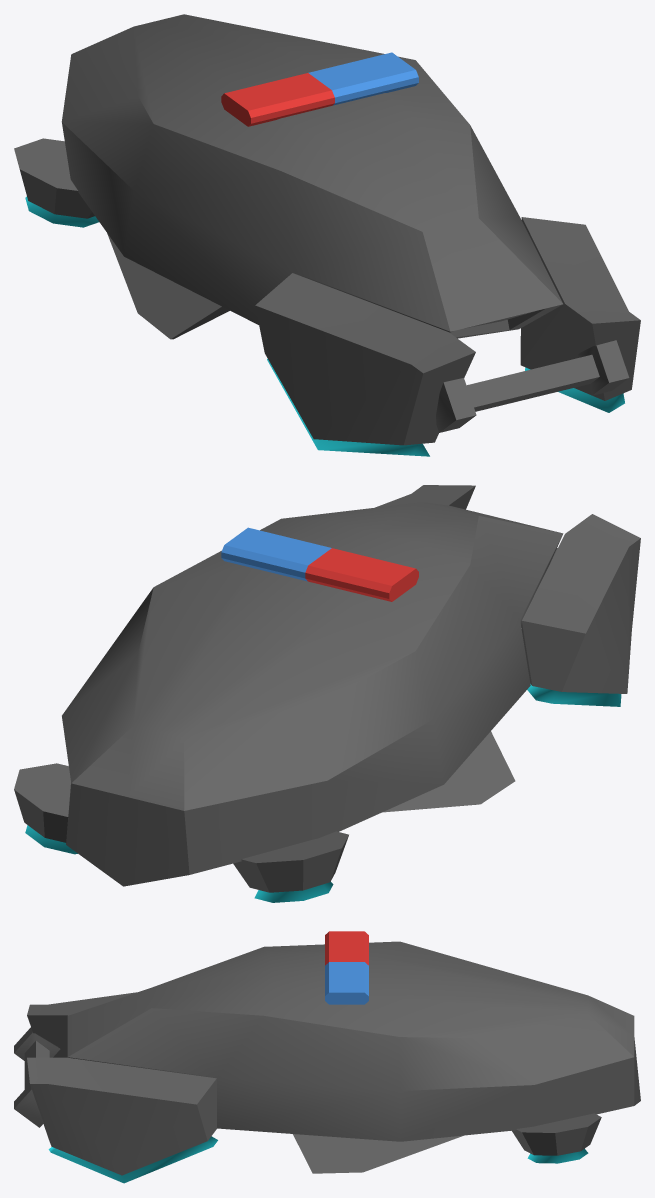
Rendered from CbpTransport B.fbx.
3 renders of one model, top to bottom at view 1: azimuth 30°, elevation 25°; view 2: azimuth 150°, elevation 25°; view 3: azimuth 270°, elevation 25°, orthographic. The views are drawn at different scales.
Visible parts, largest first — view 1: CbpTransport B; view 2: CbpTransport B; view 3: CbpTransport B.
Part boxes in pixels (x1,y1,x2,y2): CbpTransport B: [14, 14, 640, 456]; CbpTransport B: [14, 485, 640, 902]; CbpTransport B: [14, 931, 640, 1183].
Size of the model in its own units: 3.36 by 2.07 by 7.07.
